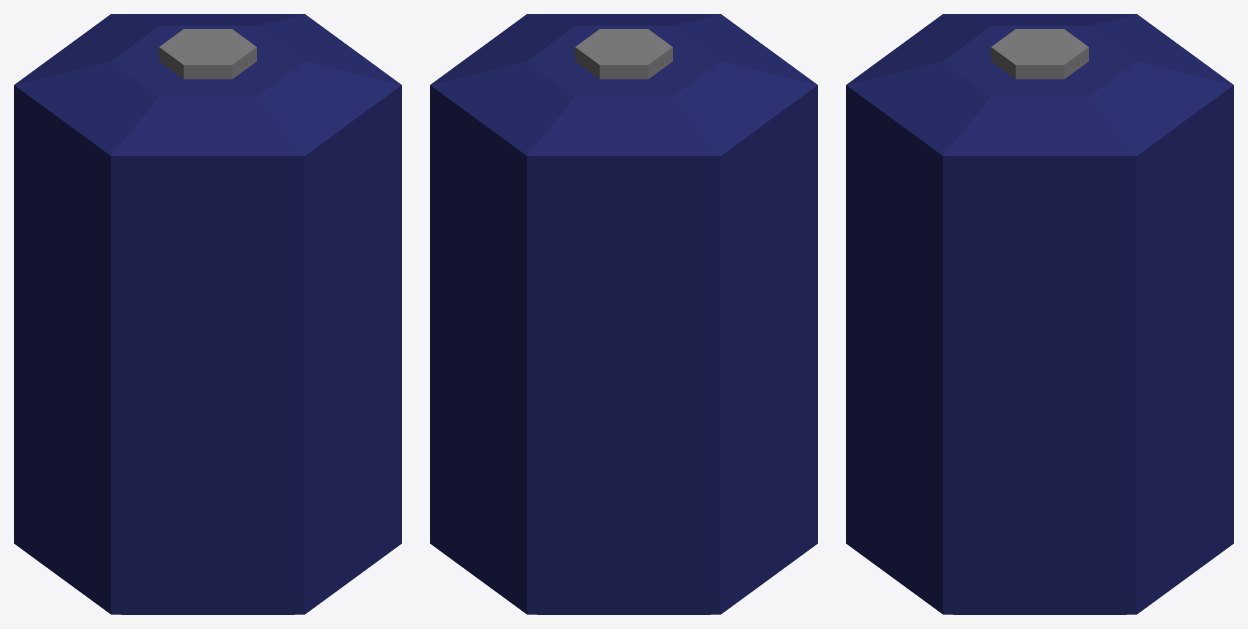
The model's file is BatteryLarge.fbx.
3 renders of one model, left to right at view 1: azimuth 30°, elevation 25°; view 2: azimuth 150°, elevation 25°; view 3: azimuth 270°, elevation 25°, orthographic.
Parts seen in each view (by area): view 1: Battery large; view 2: Battery large; view 3: Battery large.
Part boxes in pixels (x1=…): Battery large: x1=14, y1=14, x2=401, y2=614; Battery large: x1=430, y1=14, x2=817, y2=614; Battery large: x1=846, y1=14, x2=1233, y2=614.
Bounding box in the file's own units: 4.32 × 7.23 × 4.99.
